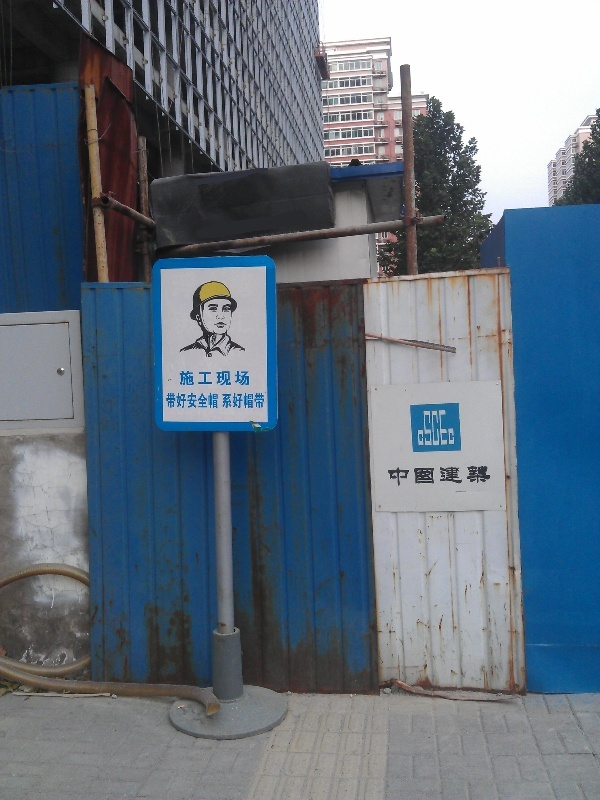text: (417, 409, 432, 449), (433, 409, 448, 449), (401, 465, 416, 487), (417, 465, 432, 487), (433, 465, 448, 487), (449, 465, 464, 487), (465, 465, 480, 487), (387, 465, 400, 487), (481, 465, 493, 487), (177, 393, 192, 409), (193, 393, 208, 409), (449, 409, 455, 449), (225, 393, 240, 409), (241, 393, 256, 409), (177, 371, 192, 386), (193, 371, 208, 386), (209, 371, 224, 386), (225, 371, 240, 386), (165, 393, 176, 409), (209, 393, 219, 409), (241, 371, 251, 386), (257, 393, 266, 409), (222, 393, 224, 409)
